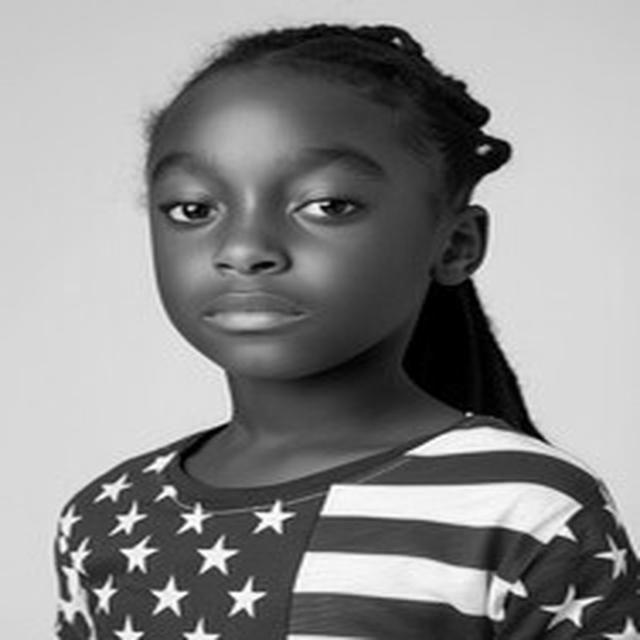Neutral: (148, 78, 437, 382)
